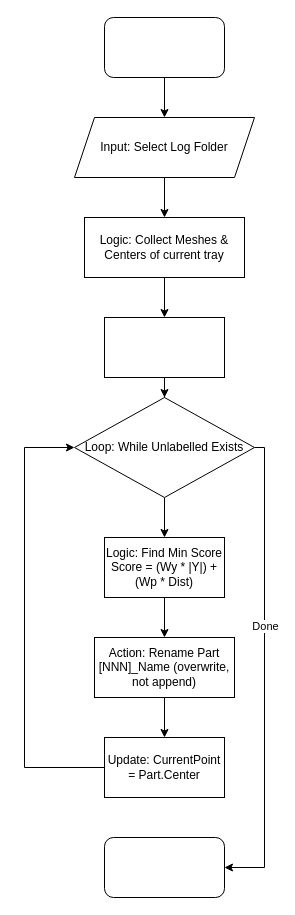
Some shapes in this 295 by 915 pixel diagram are drawn without their labels. Each missing label, with the box of its shape:
End: (104, 836, 224, 898)
Init: CurrentPoint = (0,0): (104, 316, 224, 378)
Start: (104, 16, 224, 78)
